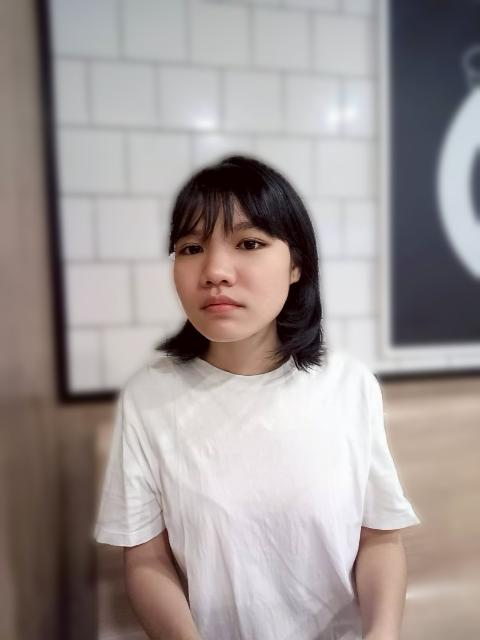fokus: (172, 163, 305, 342)
